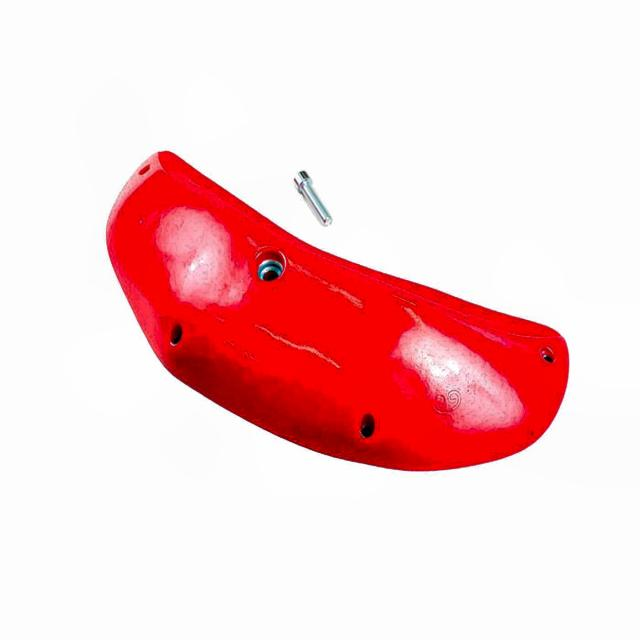Hold: (90, 144, 574, 483)
